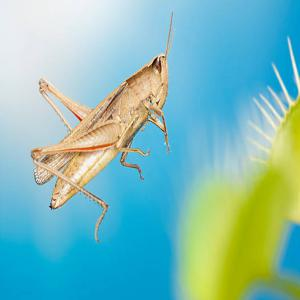locust: (26, 19, 183, 246)
